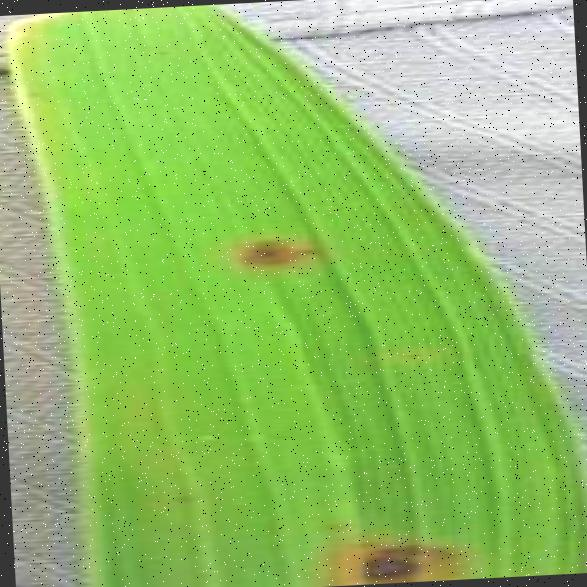Brown_Spot: (221, 219, 331, 278), (344, 545, 425, 583), (384, 528, 458, 566), (163, 482, 204, 510), (262, 423, 298, 448), (388, 342, 425, 366), (144, 37, 176, 60), (315, 516, 351, 533), (346, 534, 380, 551), (16, 83, 44, 102)
